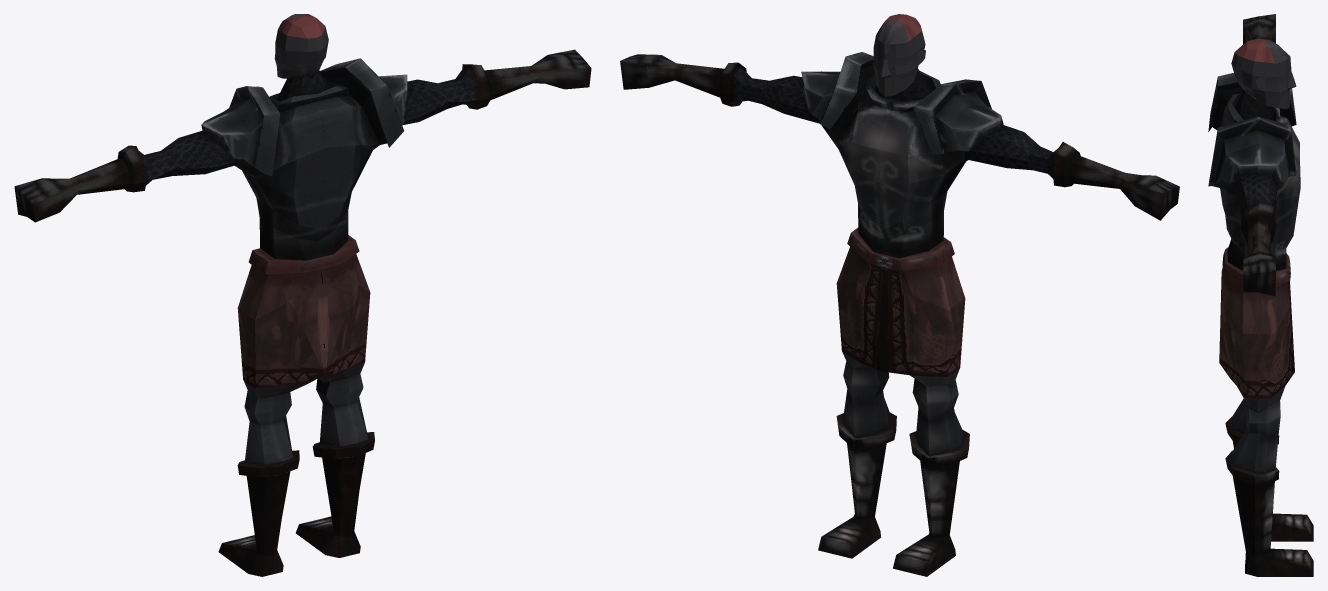
Rendered from inquisitor.glb.
3 renders of one model, left to right at view 1: azimuth 30°, elevation 25°; view 2: azimuth 150°, elevation 25°; view 3: azimuth 270°, elevation 25°, orthographic. The views are drawn at different scales.
Visible parts, largest first — view 1: Body, Head; view 2: Body, Head; view 3: Body, Head.
Part boxes in pixels (bbox=[...]): Body: bbox=[14, 49, 591, 576]; Head: bbox=[274, 14, 328, 78]; Body: bbox=[620, 52, 1179, 576]; Head: bbox=[873, 14, 925, 96]; Body: bbox=[1208, 14, 1313, 576]; Head: bbox=[1231, 38, 1296, 109].
Size of the model in its own units: 2.15 by 1.99 by 0.3724.
2 materials, 2 textured.
